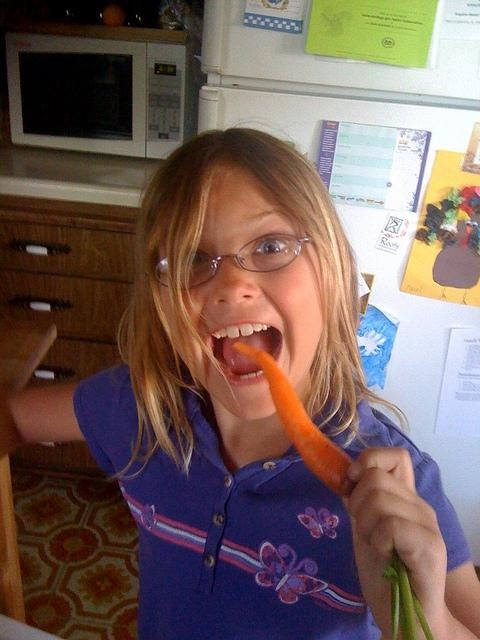person: (5, 125, 480, 640)
